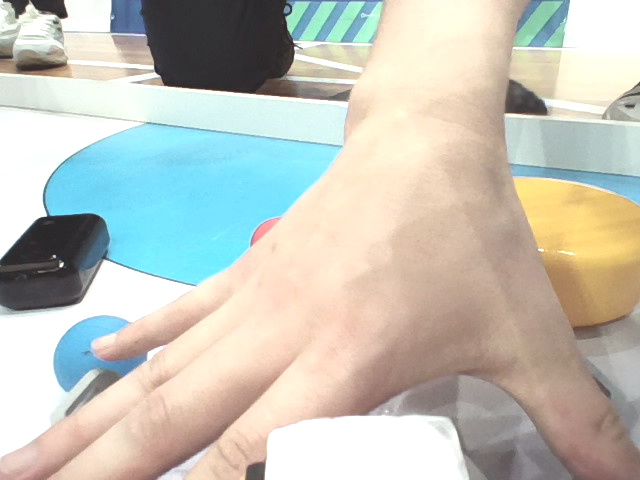black: (1, 211, 115, 312)
blue: (49, 314, 150, 400)
red: (248, 214, 312, 276)
yellow: (454, 168, 640, 329)
